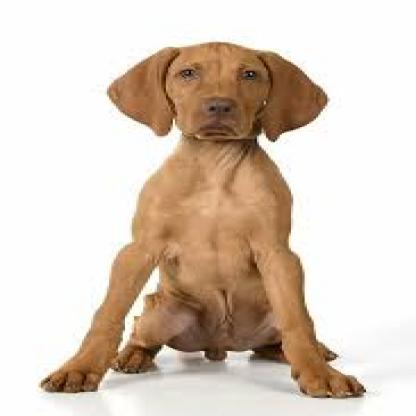Hungarian Vizsla: (38, 34, 373, 399)
